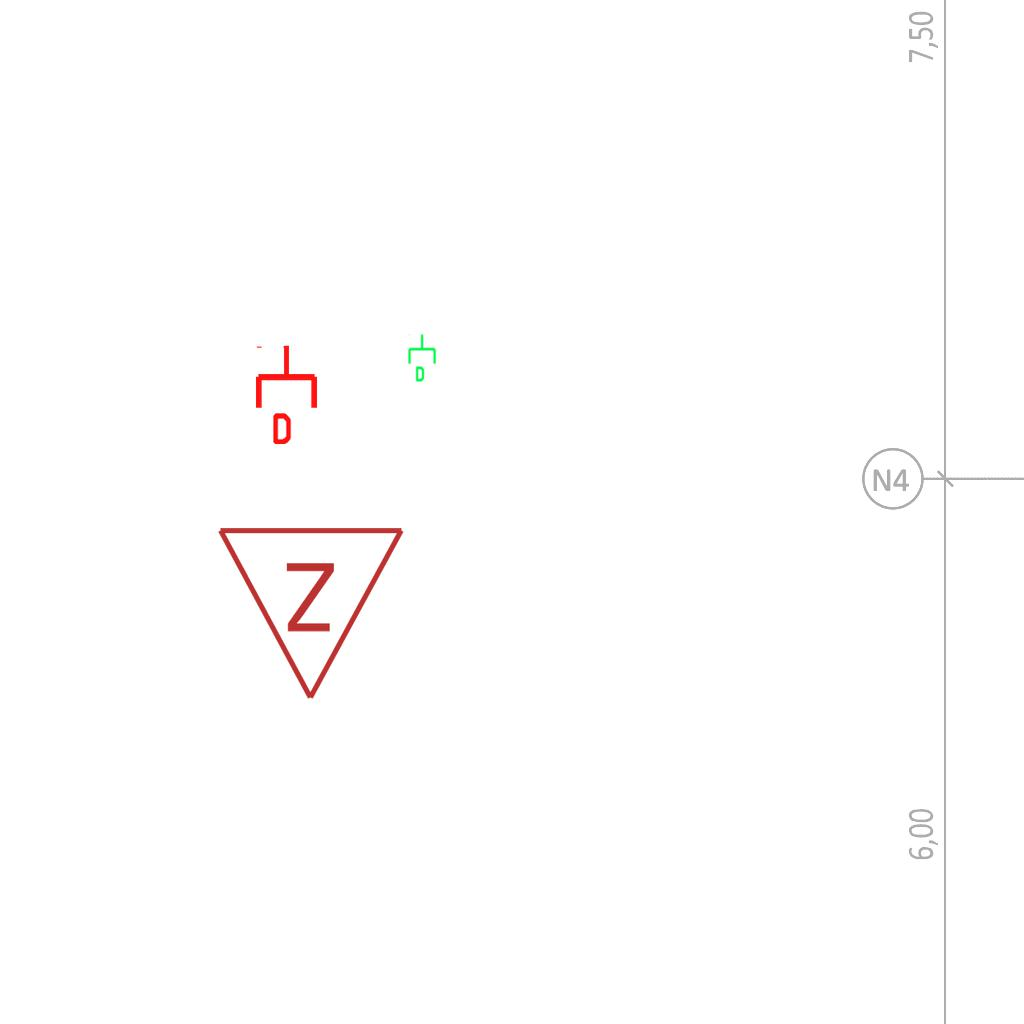Datenanschluss_einfach: (252, 344, 321, 444), (406, 333, 440, 383)
Zimmersignalleuchte: (215, 513, 411, 713)
